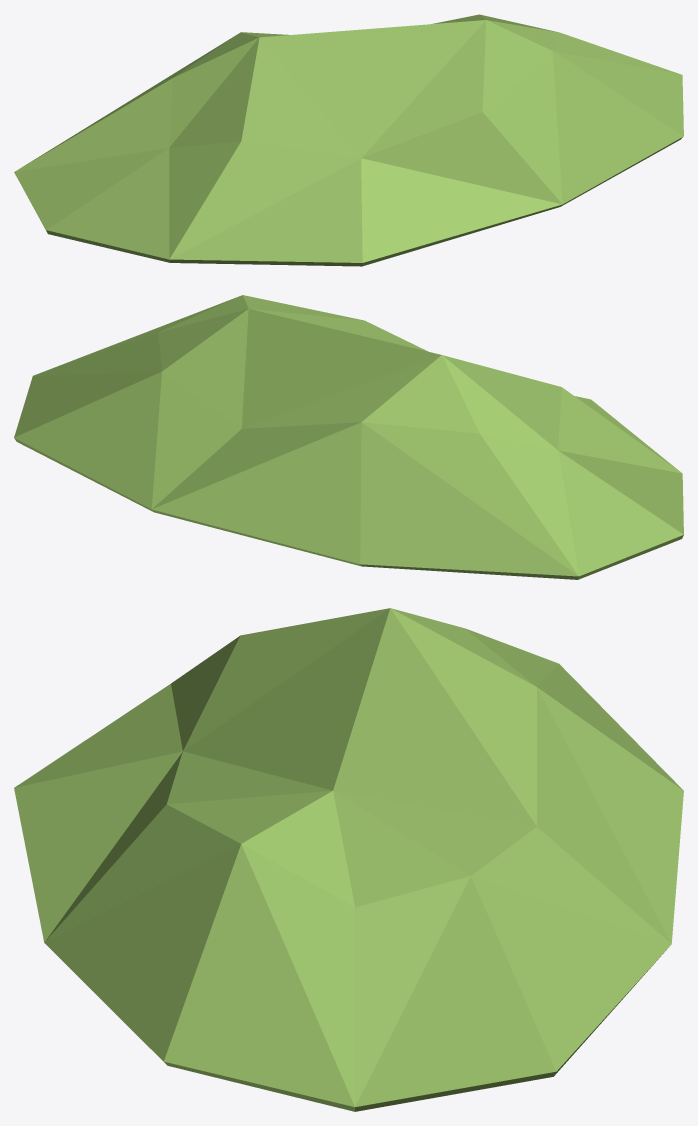
3 renders of one model, top to bottom at view 1: azimuth 30°, elevation 25°; view 2: azimuth 150°, elevation 25°; view 3: azimuth 270°, elevation 25°, orthographic. The views are drawn at different scales.
Visible parts, largest first — view 1: Hill_Low_A_Geometry; view 2: Hill_Low_A_Geometry; view 3: Hill_Low_A_Geometry.
Boxes of the visible parts, x1,y1,x2,y2 form: Hill_Low_A_Geometry: [14, 14, 683, 266]; Hill_Low_A_Geometry: [14, 295, 683, 579]; Hill_Low_A_Geometry: [14, 608, 683, 1111].
Bounding box in the file's own units: 2.49 × 0.5 × 1.5.
